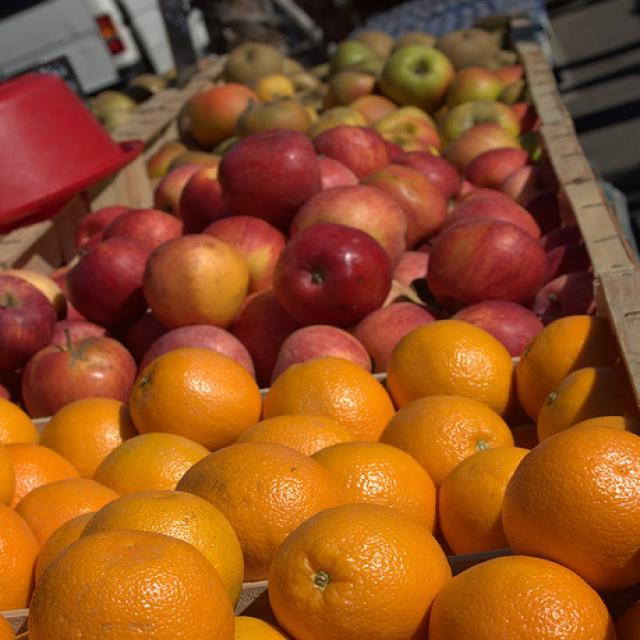Vehicle: (0, 0, 208, 99)
